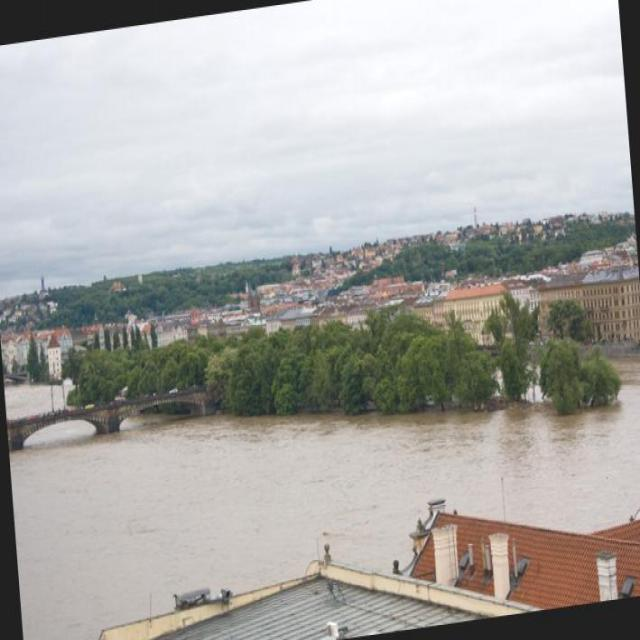flood: (2, 274, 639, 639)
